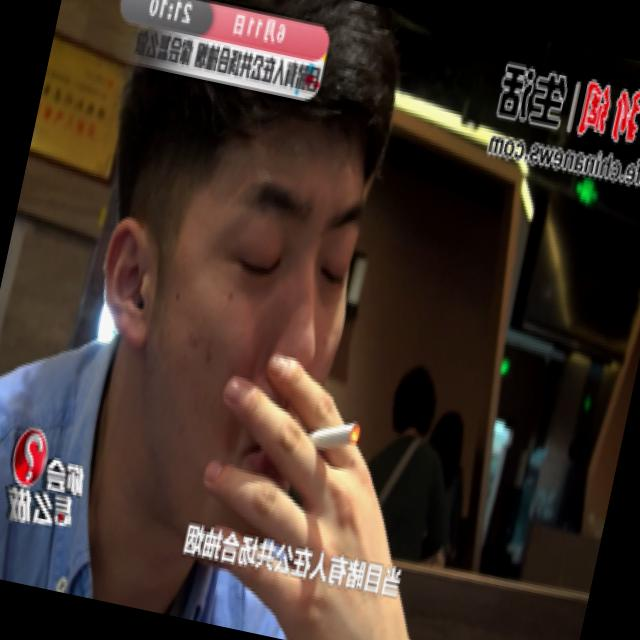smoke: (286, 408, 365, 468)
